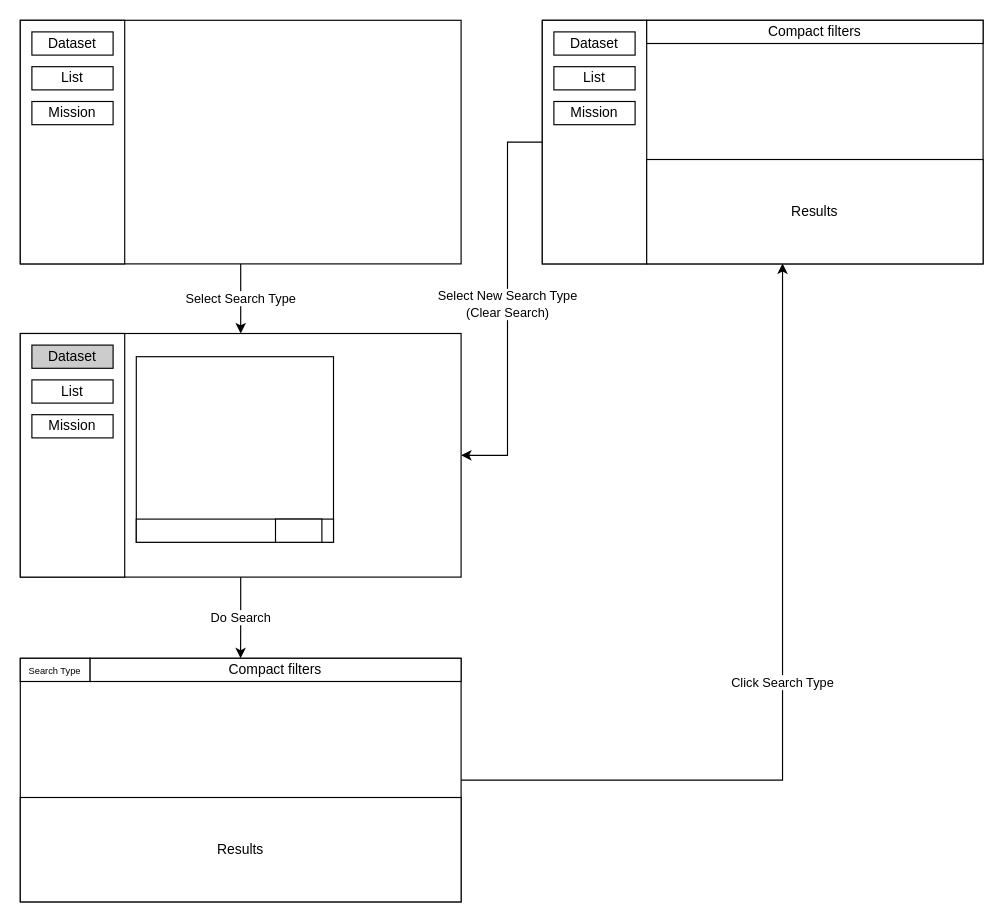
The diagram is 1003 pixels wide and 922 high, and some of its shapes have lost their labels. The shapes that lost their labels are listed below. From the top down, each one's box as (x1, y1, x2, y2) in pixels, then its label:
(135, 356, 334, 542): dataset filters
(274, 518, 322, 542): Search
